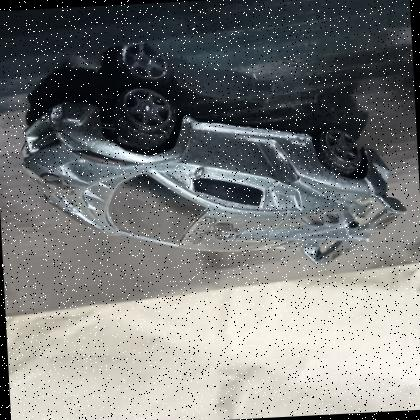Car: (21, 83, 407, 263)
